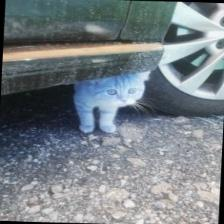kedo: (73, 70, 152, 134)
